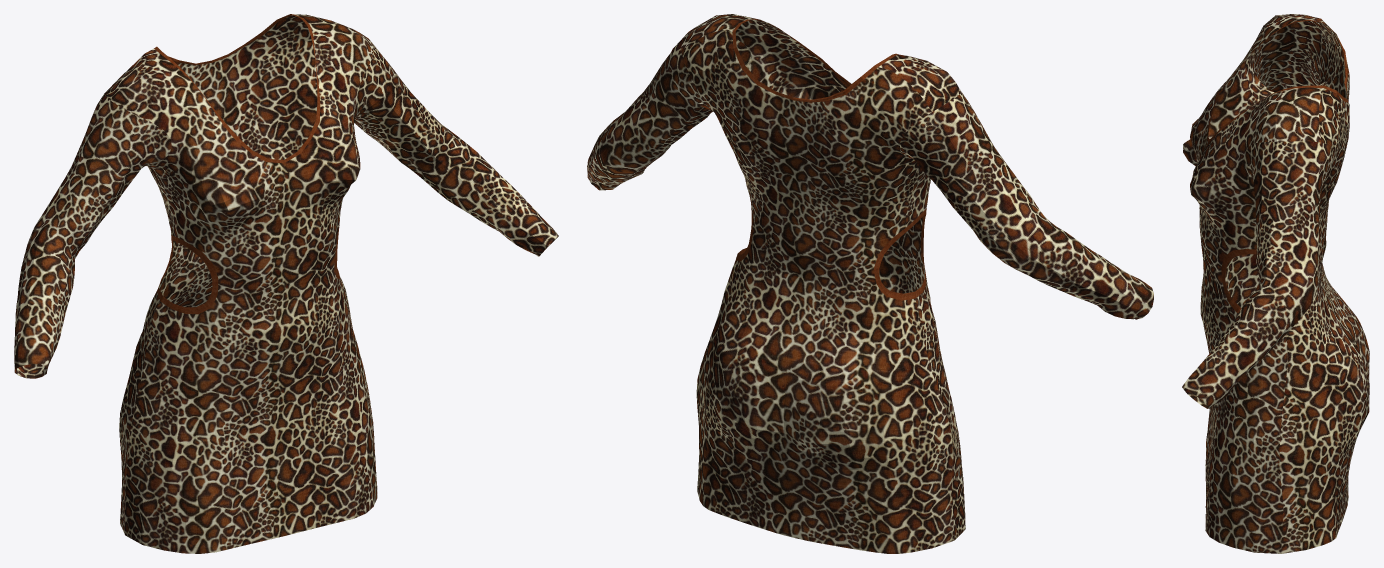
File: garment.glb
3 renders of one model, left to right at view 1: azimuth 30°, elevation 25°; view 2: azimuth 150°, elevation 25°; view 3: azimuth 270°, elevation 25°, orthographic. The views are drawn at different scales.
Visible parts, largest first — view 1: garment; view 2: garment; view 3: garment.
Boxes of the visible parts, x1,y1,x2,y2 form: garment: (14, 14, 558, 553); garment: (587, 14, 1153, 553); garment: (1182, 14, 1369, 553).
Bounding box in the file's own units: 8.81 × 7.19 × 2.74.
1 material, 1 textured.
